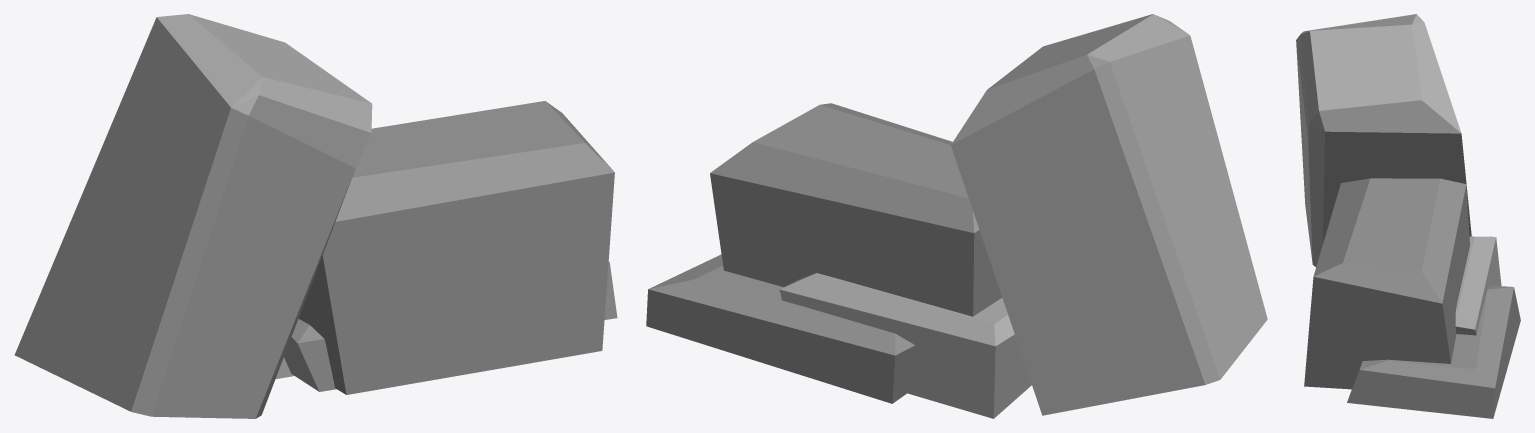
The model's file is EM_rock_fence3.fbx.
3 renders of one model, left to right at view 1: azimuth 30°, elevation 25°; view 2: azimuth 150°, elevation 25°; view 3: azimuth 270°, elevation 25°, orthographic. The views are drawn at different scales.
Visible parts, largest first — view 1: EM_rock_fence3_LOD0; view 2: EM_rock_fence3_LOD0; view 3: EM_rock_fence3_LOD0.
Part boxes in pixels (x1=…): EM_rock_fence3_LOD0: x1=14, y1=14, x2=617, y2=418; EM_rock_fence3_LOD0: x1=646, y1=14, x2=1267, y2=418; EM_rock_fence3_LOD0: x1=1296, y1=14, x2=1520, y2=418.
Size of what is drawn, in the model's own units: 1.26 by 0.7522 by 0.6037.
